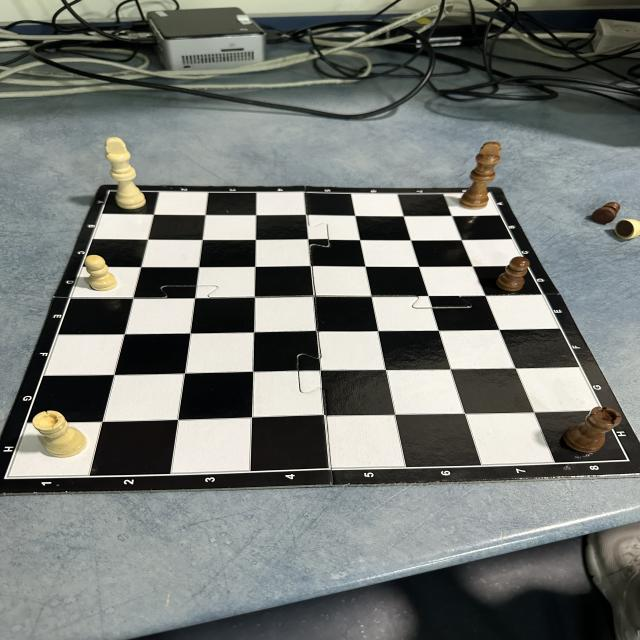Black-King: (460, 140, 501, 208)
Black-Pawn: (497, 256, 529, 292), (592, 201, 618, 224)
Black-Rook: (561, 405, 622, 454)
White-King: (104, 136, 147, 211)
White-Pawn: (86, 254, 116, 290)
White-Rook: (31, 411, 86, 457)
